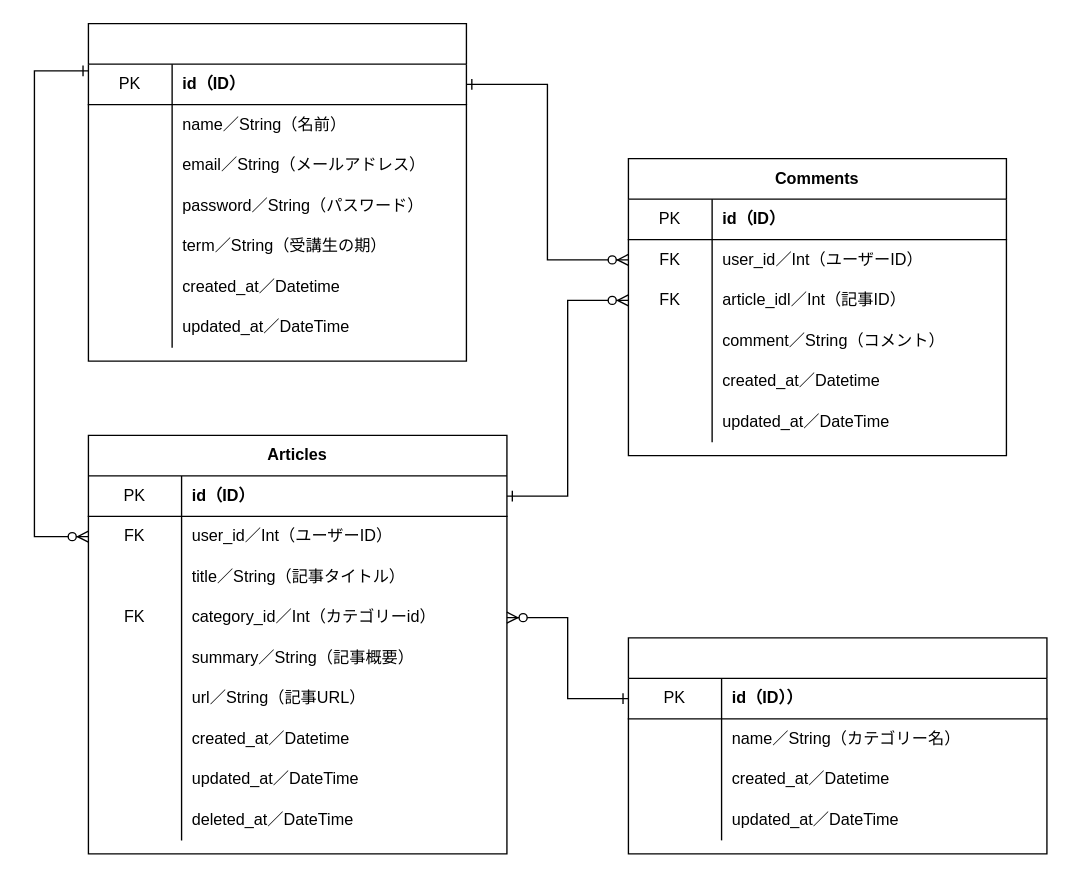
Some shapes in this 1071 by 878 pixel diagram are drawn without their labels. Here are the shapes that lost their labels. From the top down, the box of each, then its label:
(87, 22, 466, 361): Users
(627, 637, 1047, 854): Categories
